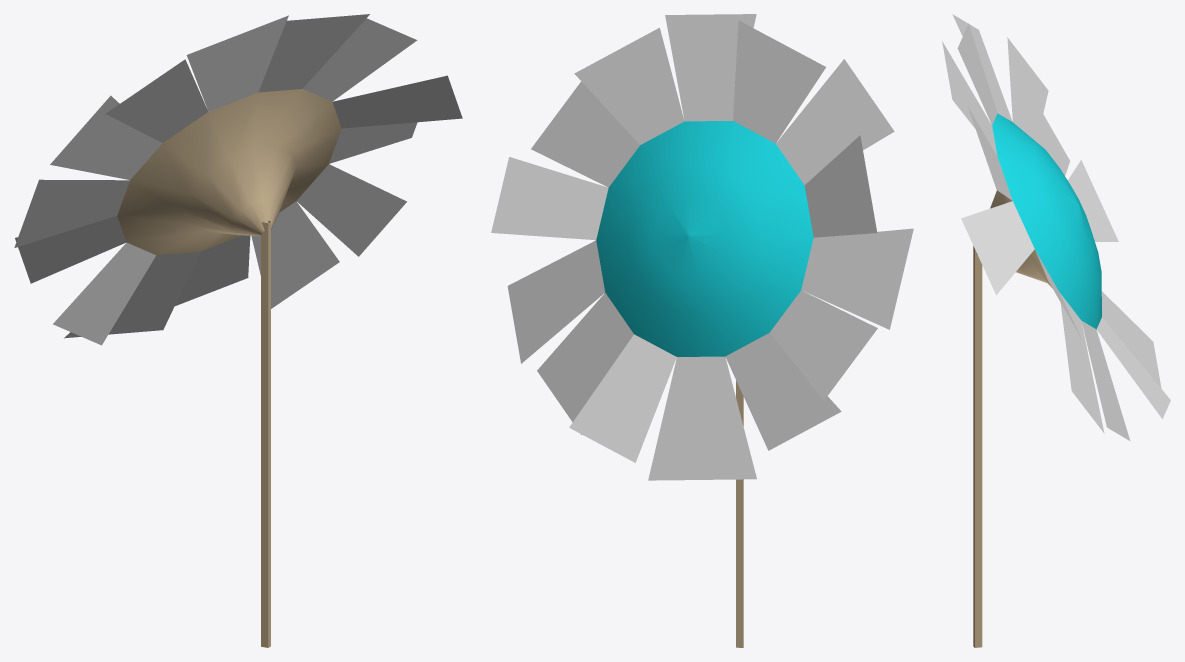
The model's file is flower.fbx.
3 renders of one model, left to right at view 1: azimuth 30°, elevation 25°; view 2: azimuth 150°, elevation 25°; view 3: azimuth 270°, elevation 25°, orthographic. The views are drawn at different scales.
Visible parts, largest first — view 1: Flower, Stem; view 2: Flower, Stem; view 3: Flower, Stem.
Part boxes in pixels (left/top/right/bottom): Flower: left=14, top=14, right=462, bottom=345; Stem: left=261, top=220, right=270, bottom=647; Flower: left=491, top=14, right=913, bottom=480; Stem: left=736, top=380, right=743, bottom=647; Flower: left=942, top=14, right=1170, bottom=440; Stem: left=973, top=246, right=982, bottom=647.
Bounding box in the file's own units: 39.53 × 58.9 × 20.15.
